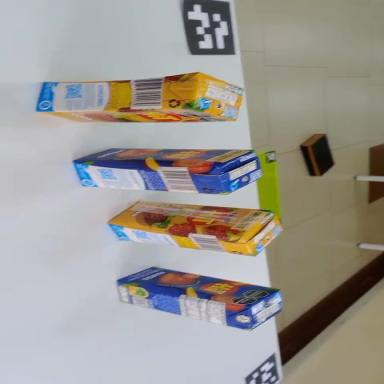HIT-MANGO: (112, 261, 284, 335), (73, 148, 262, 195)
HIT-MORA: (36, 71, 244, 126), (108, 198, 282, 257)
cara_F: (116, 261, 281, 312), (108, 198, 271, 241), (74, 147, 253, 169), (40, 108, 233, 122)
